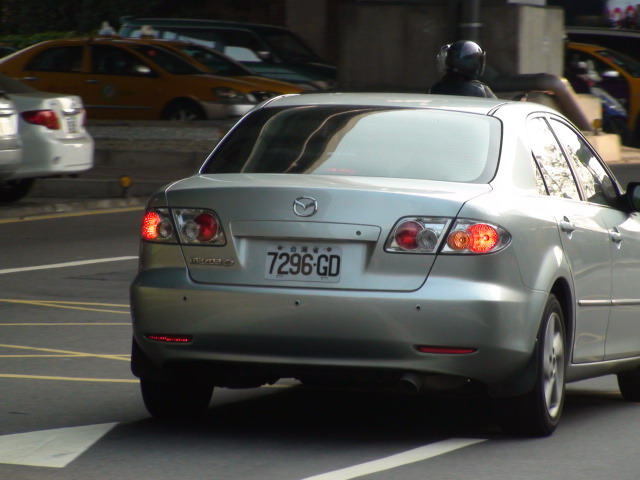plate: (264, 239, 345, 285)
